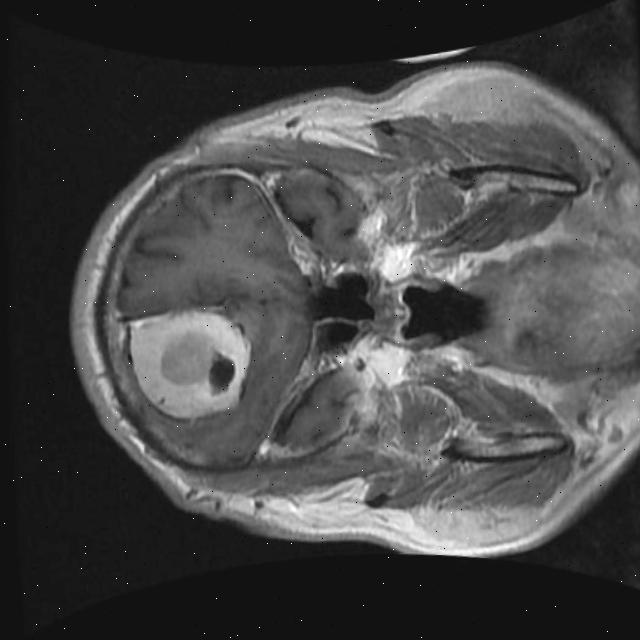Meningioma: (126, 303, 257, 426)
